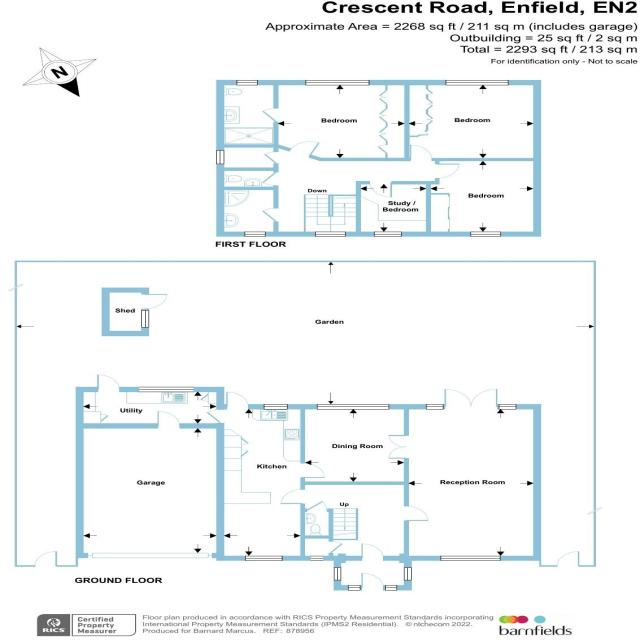DOOR: (287, 141, 321, 159), (277, 487, 307, 507), (224, 390, 252, 410), (360, 542, 387, 561), (300, 461, 327, 479), (403, 504, 431, 521), (360, 572, 386, 590), (434, 163, 461, 179), (409, 144, 433, 162), (369, 181, 393, 198), (260, 171, 280, 187), (260, 207, 280, 222), (262, 150, 281, 165), (261, 108, 279, 123)
DOUBLE DOOR: (444, 387, 499, 409), (385, 433, 409, 460)
ROOM: (380, 384, 540, 561), (260, 80, 410, 162), (404, 80, 541, 161), (426, 158, 541, 237), (301, 404, 409, 485), (355, 181, 431, 237), (215, 144, 279, 172)
WINDOW: (315, 402, 392, 410), (439, 555, 502, 563), (445, 79, 510, 86), (305, 80, 370, 86), (260, 401, 291, 412), (244, 554, 284, 562), (470, 231, 502, 237), (315, 231, 346, 237), (331, 566, 343, 581), (374, 231, 402, 237), (402, 566, 414, 580), (215, 149, 225, 165), (425, 403, 445, 410), (236, 80, 258, 86), (244, 231, 266, 237), (347, 583, 362, 591), (310, 554, 324, 562)
